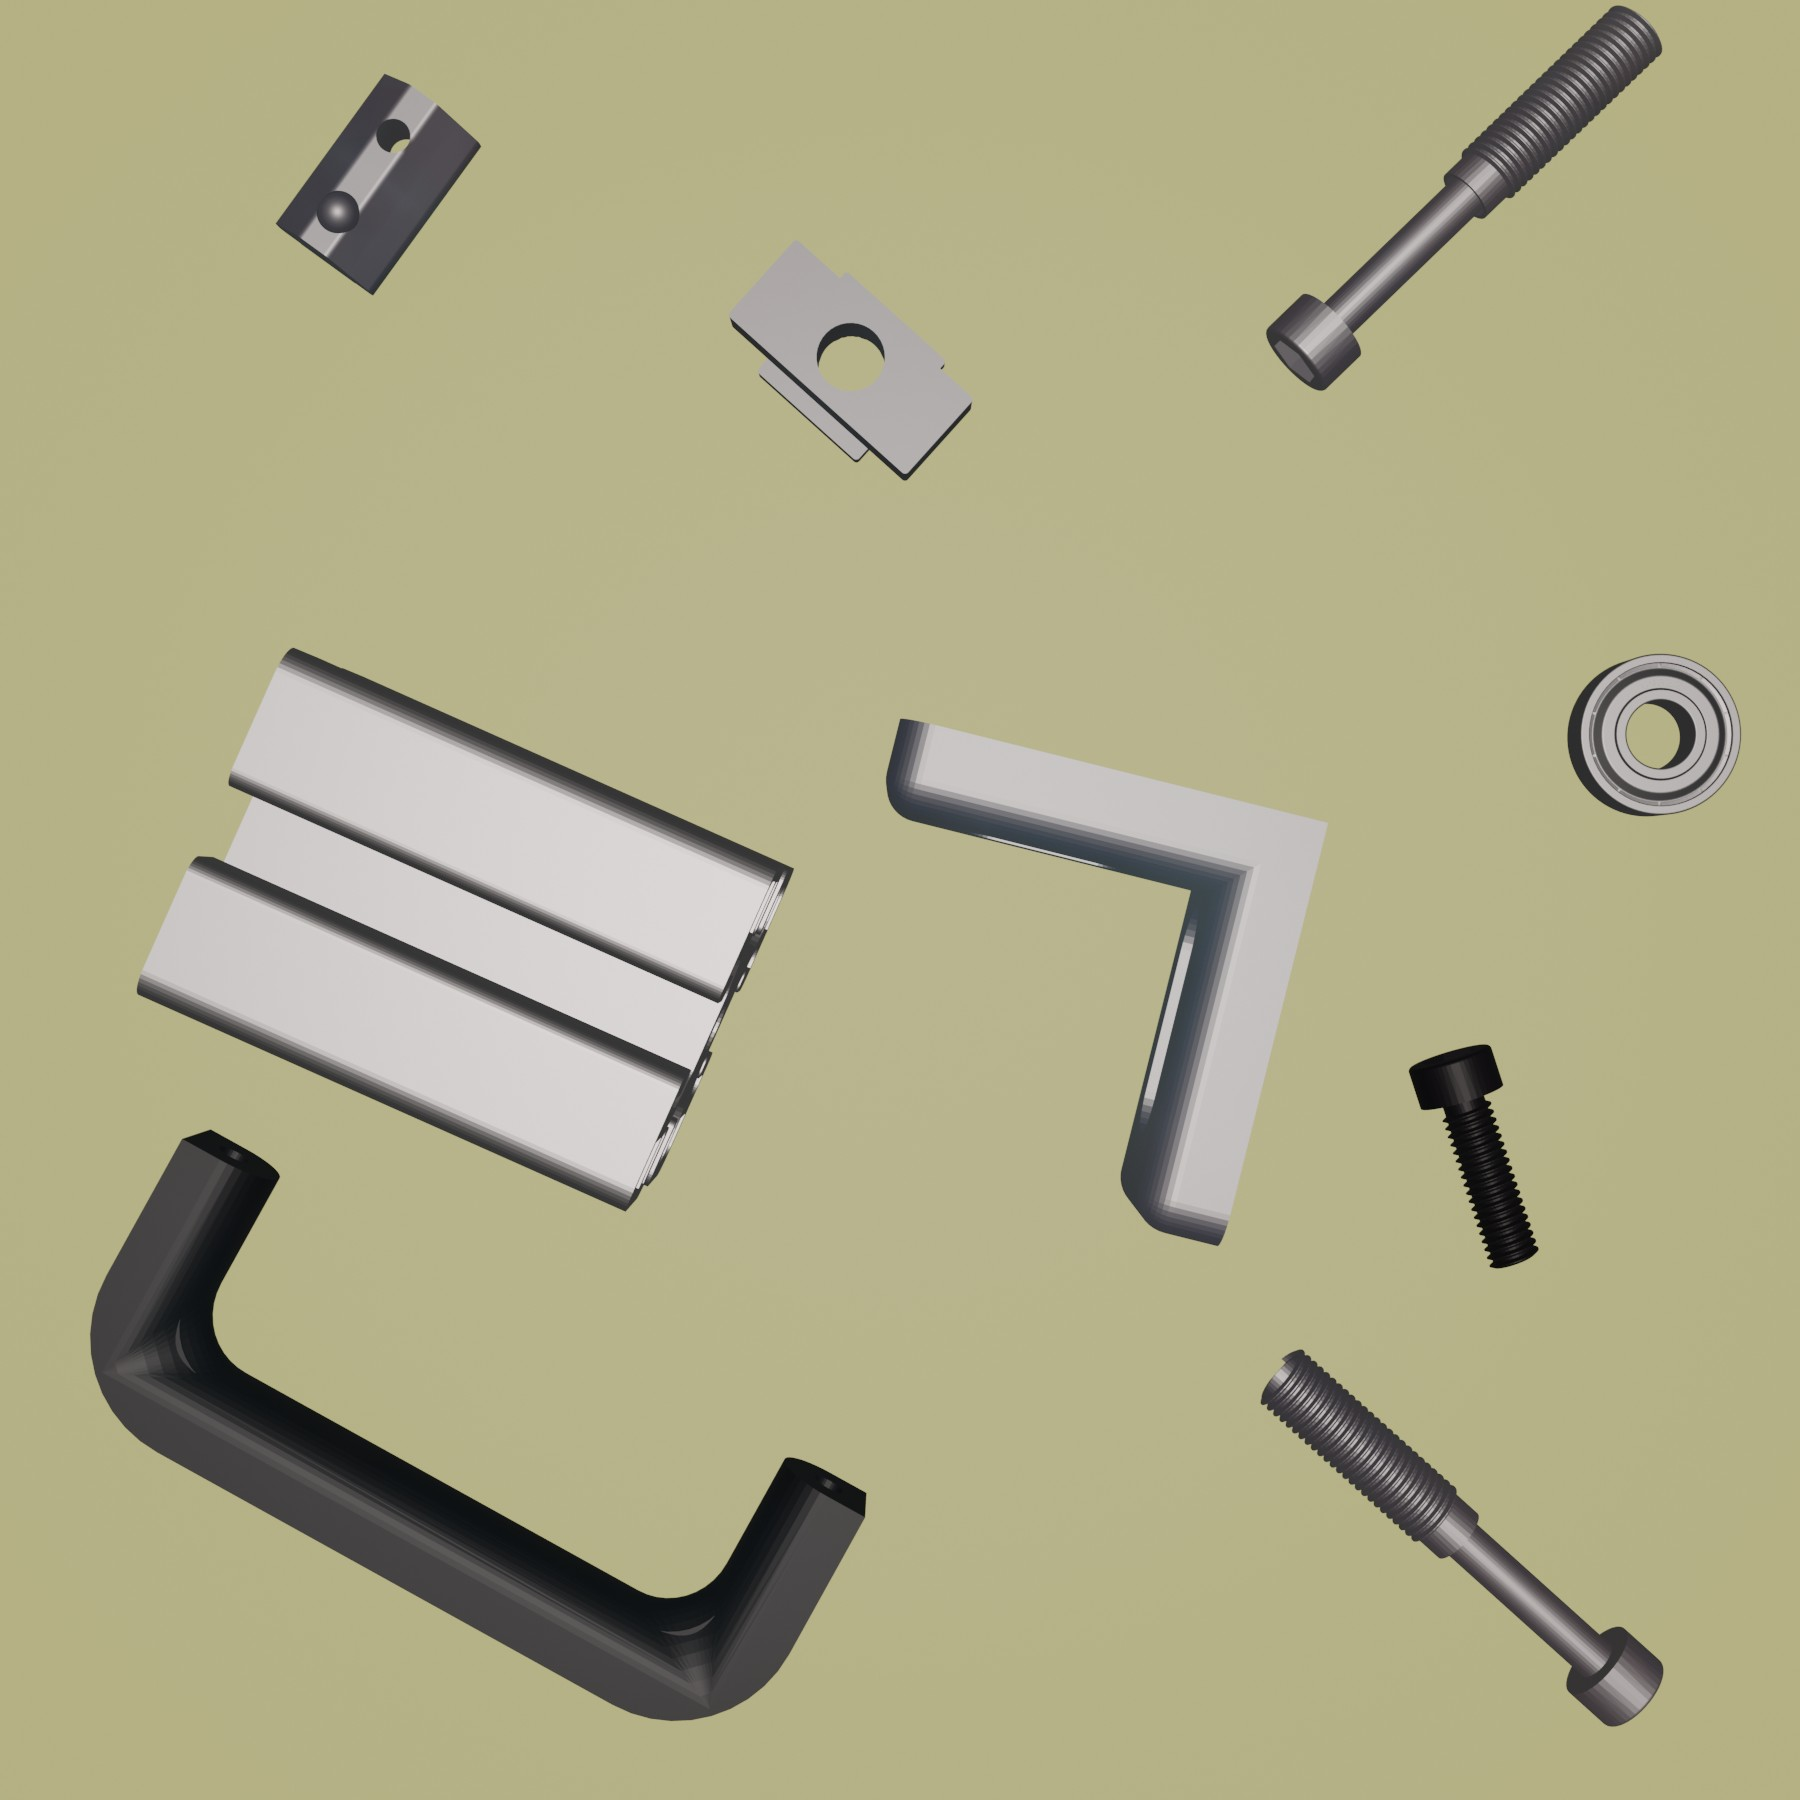Aluminium Extension: (132, 648, 798, 1216)
Ball Bearing: (1563, 649, 1744, 823)
Multiwinkel: (882, 712, 1334, 1249)
Pull Handle: (86, 1127, 870, 1723)
Shoulder Socket Head Cap Screw: (1256, 1345, 1666, 1731), (1263, 2, 1665, 392)
Socket Head Cap Screw: (1404, 1042, 1541, 1274)
T Nut Square: (724, 236, 976, 481)
T Spring Nut: (270, 69, 481, 297)
